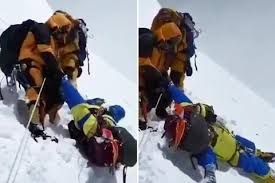fall: (160, 91, 275, 183)
